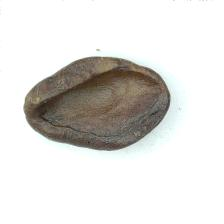NG: (32, 64, 168, 142)
